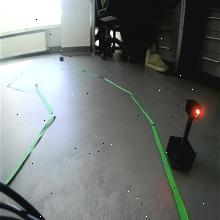red: (185, 98, 202, 121)
